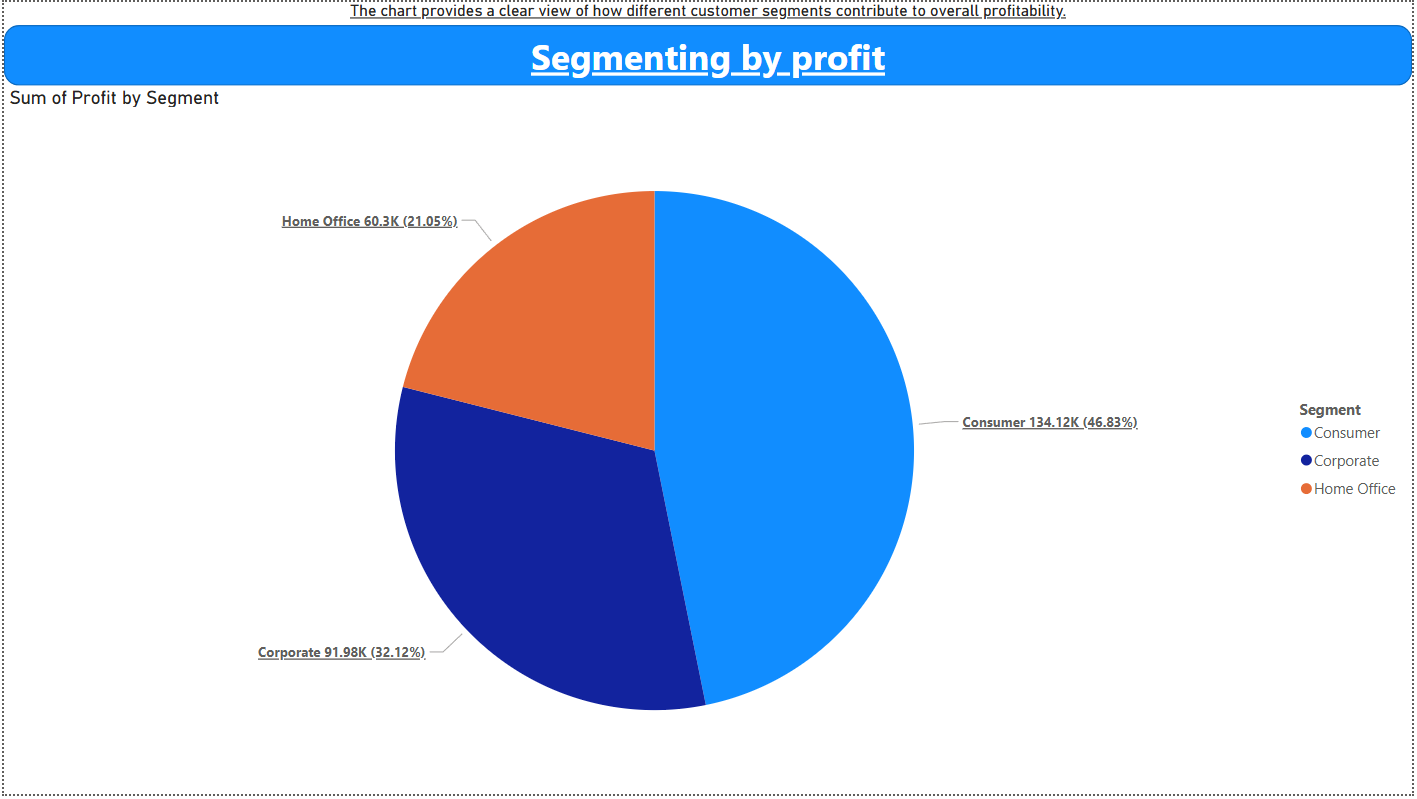

This screenshot's page, from the dashboard's own definition file:
{"tool":"powerbi","page":{"name":"Segmenting by Profit","canvas":[1280,720],"ordinal":2},"visuals":[{"type":"shape","title":"The chart provides a clear view of how different customer segments contribute to overall profitability.","box":[0,0,1280,76.4],"z":0},{"type":"pieChart","fields":{"Category":["Orders.Segment"],"Y":["Sum(Orders.Profit)"]},"box":[0,76.1,1279.7,643.9],"z":1000}]}

Visuals, with their boxes in screenshot pixels (x1, y1, x2, y2), scaled from the page's 1280x720 canvas onto the 1417x799 screenshot:
"The chart provides a clear view of how different customer segments contribute to overall profitability." shape: {"left": 0, "top": 0, "right": 1416, "bottom": 85}
pieChart - Orders.Segment x Sum(Orders.Profit): {"left": 0, "top": 84, "right": 1416, "bottom": 798}
